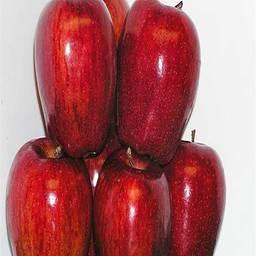apple: (117, 1, 202, 164), (33, 1, 117, 158), (4, 136, 92, 256), (93, 147, 169, 256), (168, 137, 226, 256)
